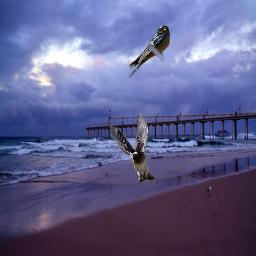Swallow: (110, 114, 157, 182), (128, 25, 170, 78)
